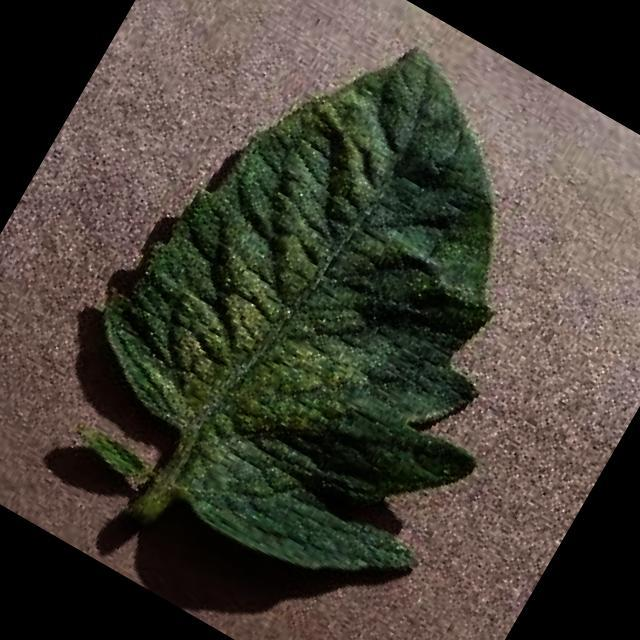Tomato spider mites leaf: (28, 0, 640, 624)
